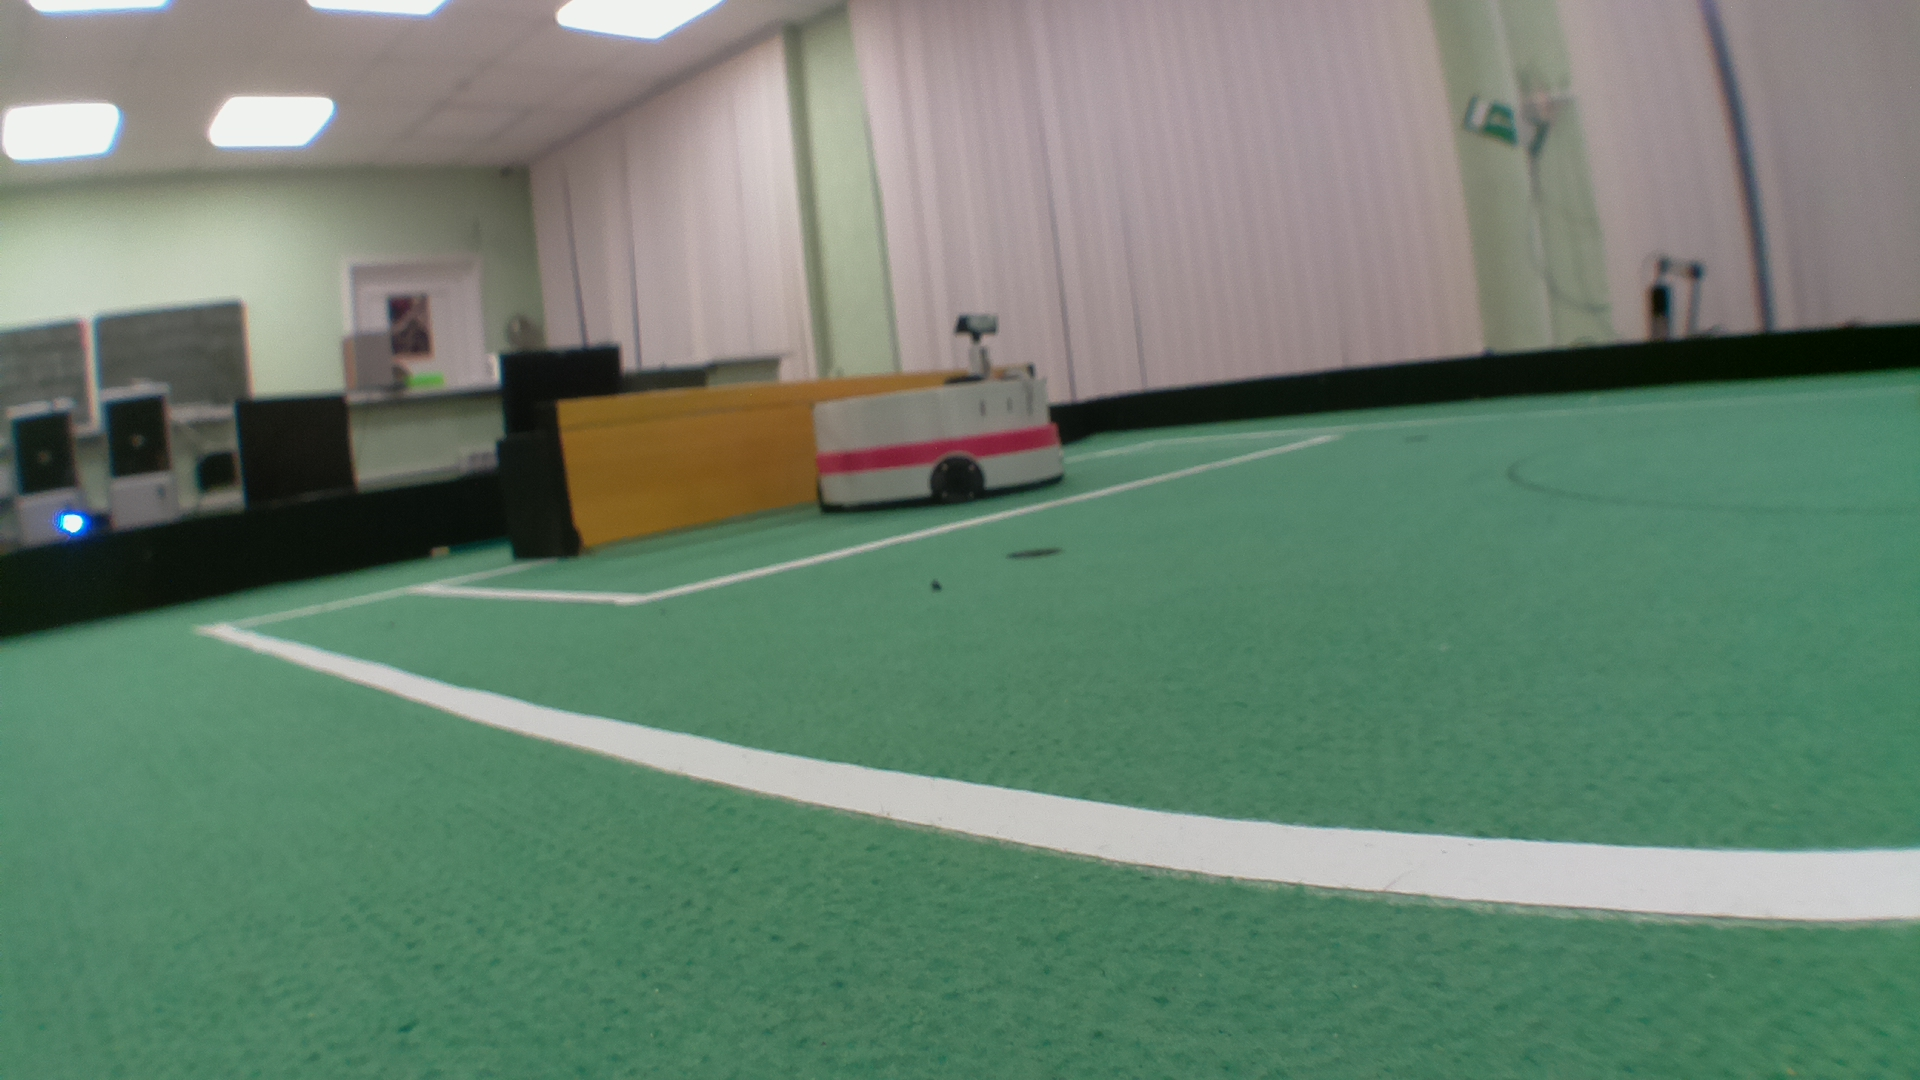YellowGoal: (556, 382, 837, 537)
